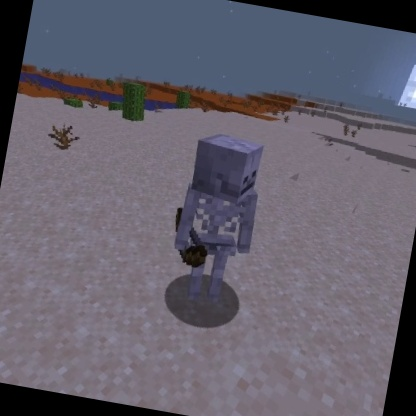skeleton: (157, 124, 276, 313)
